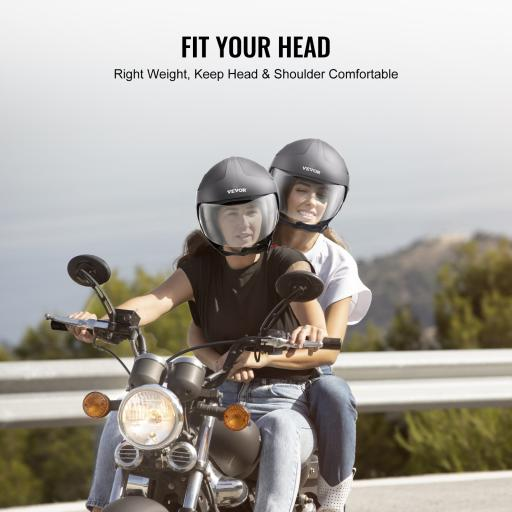helmet-detection: (193, 151, 284, 255)
